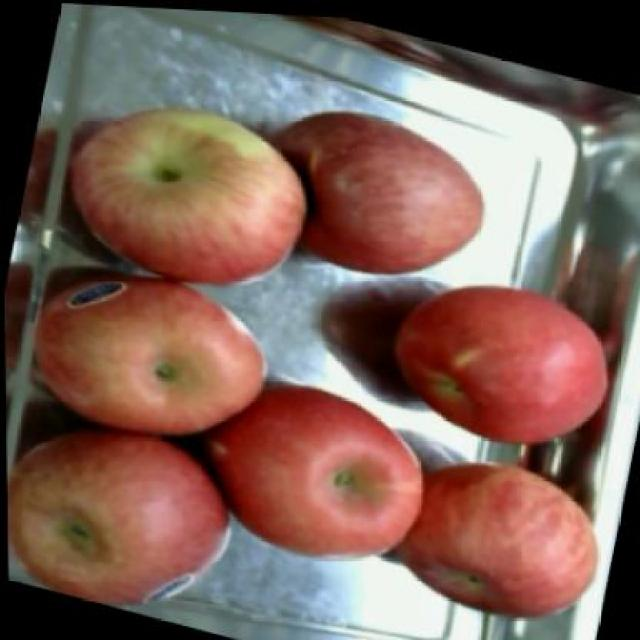Fresh Apple: (70, 110, 303, 288), (266, 94, 486, 274), (202, 386, 420, 561), (386, 282, 617, 446), (36, 282, 258, 434), (24, 436, 219, 607), (408, 460, 607, 612)
